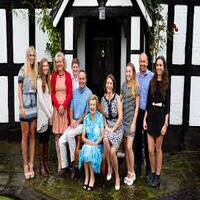person: (99, 70, 122, 100), (155, 55, 174, 87), (32, 55, 52, 84), (25, 42, 39, 81), (53, 49, 69, 82), (84, 94, 104, 119), (122, 58, 138, 88), (74, 65, 90, 89), (137, 50, 152, 73), (71, 53, 81, 78)
